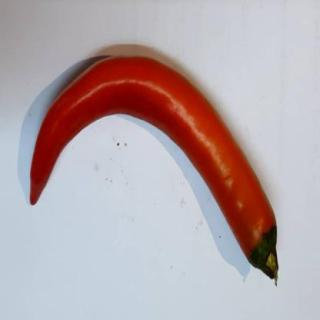Cabai Merah: (30, 54, 281, 295)
